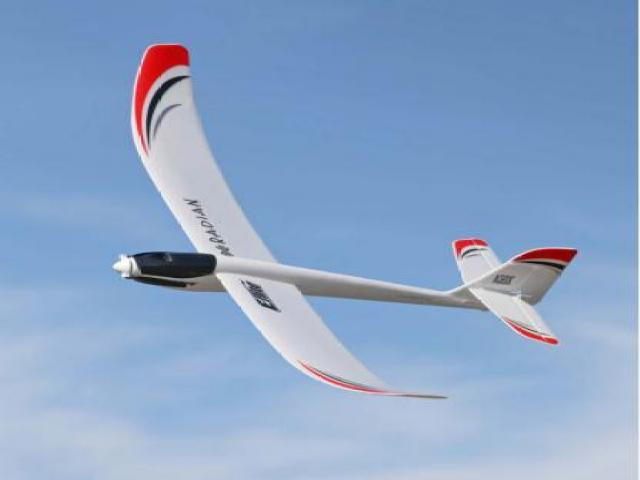uav: (111, 40, 578, 400)
